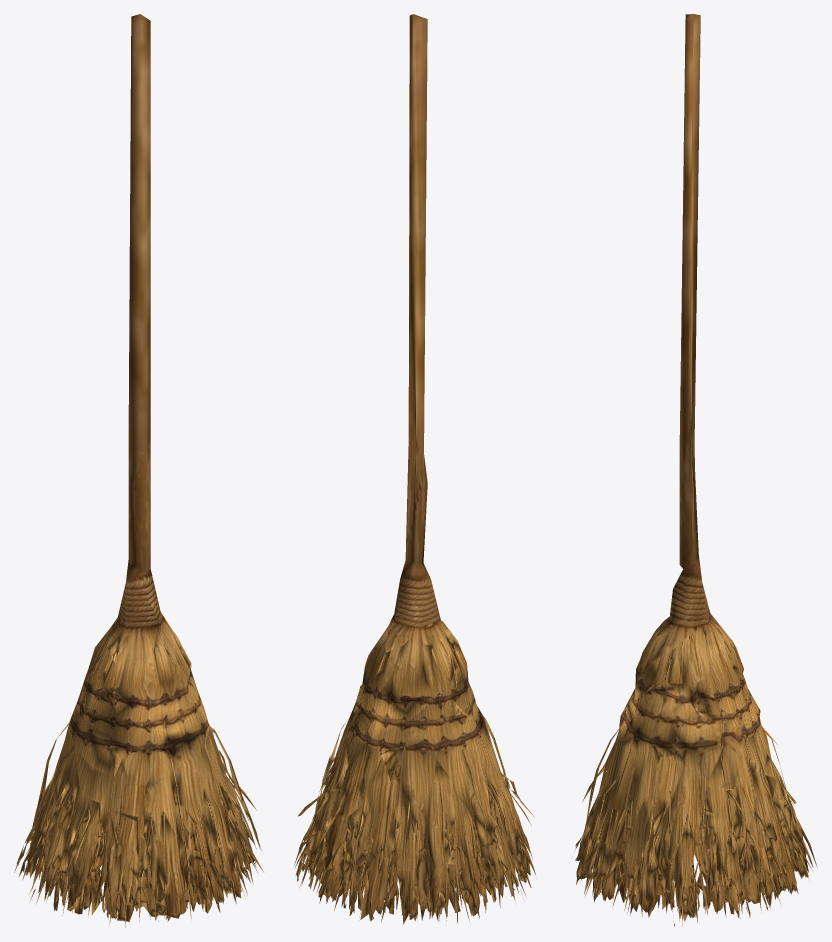
Rendered from d_broom_single.glb.
The picture shows the model from 3 angles, left to right: view 1: azimuth 30°, elevation 25°; view 2: azimuth 150°, elevation 25°; view 3: azimuth 270°, elevation 25°; orthographic projection.
Size of the model in its own units: 0.5004 by 1.9 by 0.4999.
1 material, 1 textured.
